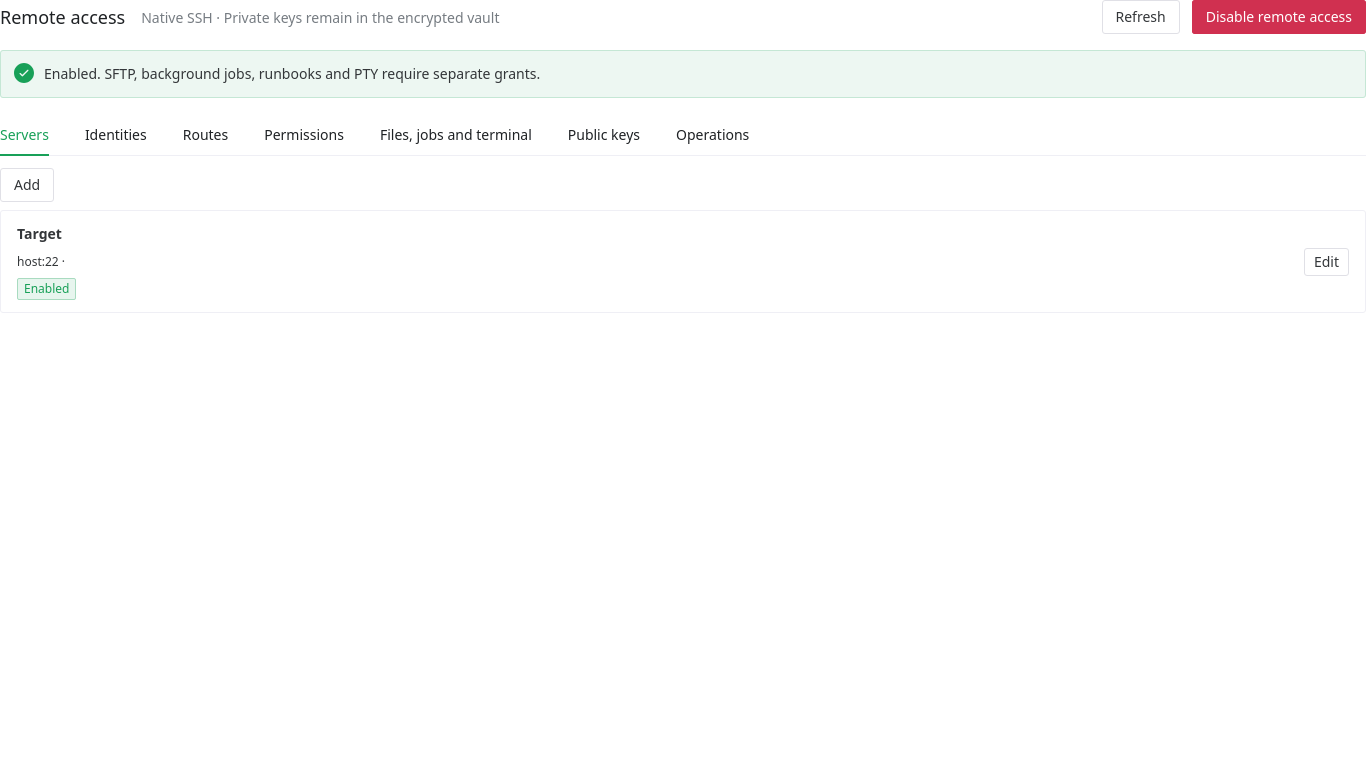
Scenario: Remote SSH dashboard › defaults new permissions to temporary without inferring permanence from a missing expiry
Click the element with class "n-tabs-tab" showing "Permissions" at (304, 135), box [264,125,344,144]
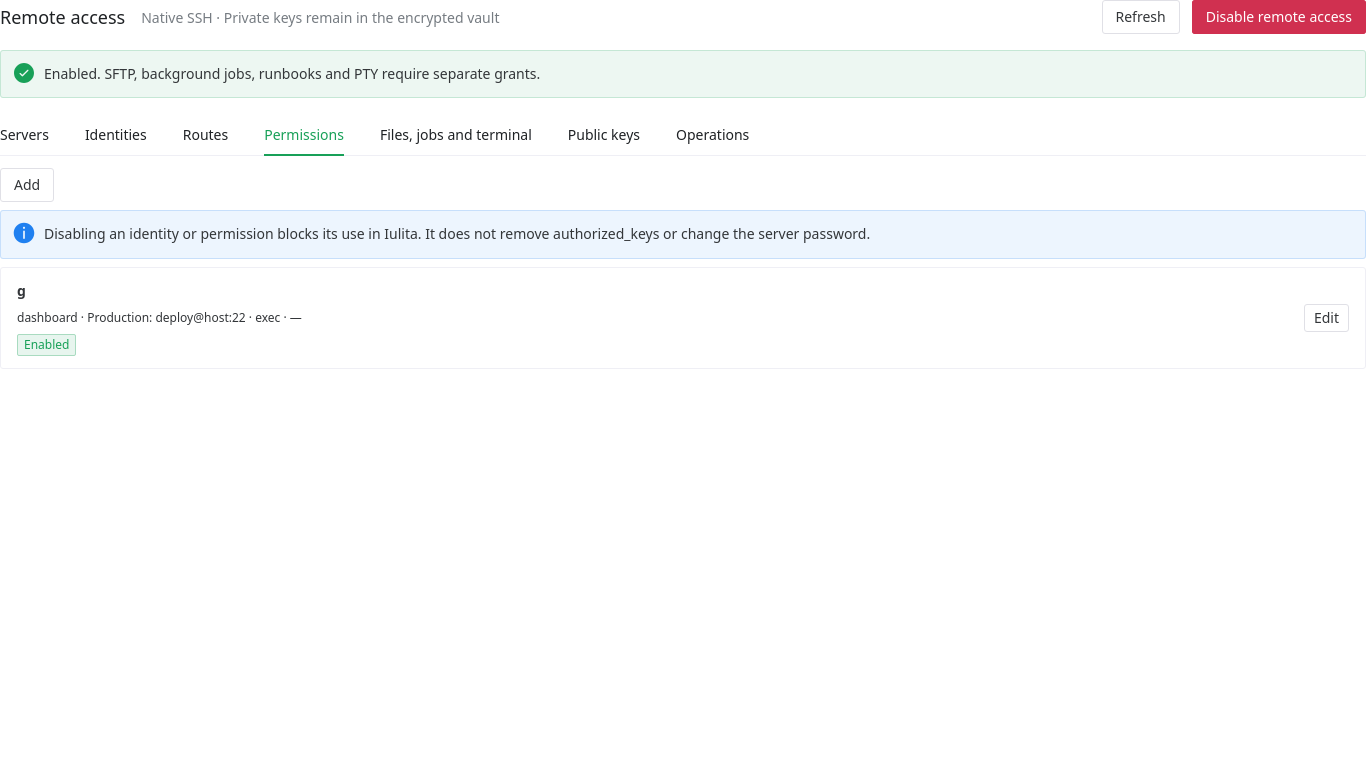
Click the button "Edit" at (1326, 318), box [1304,304,1349,332]
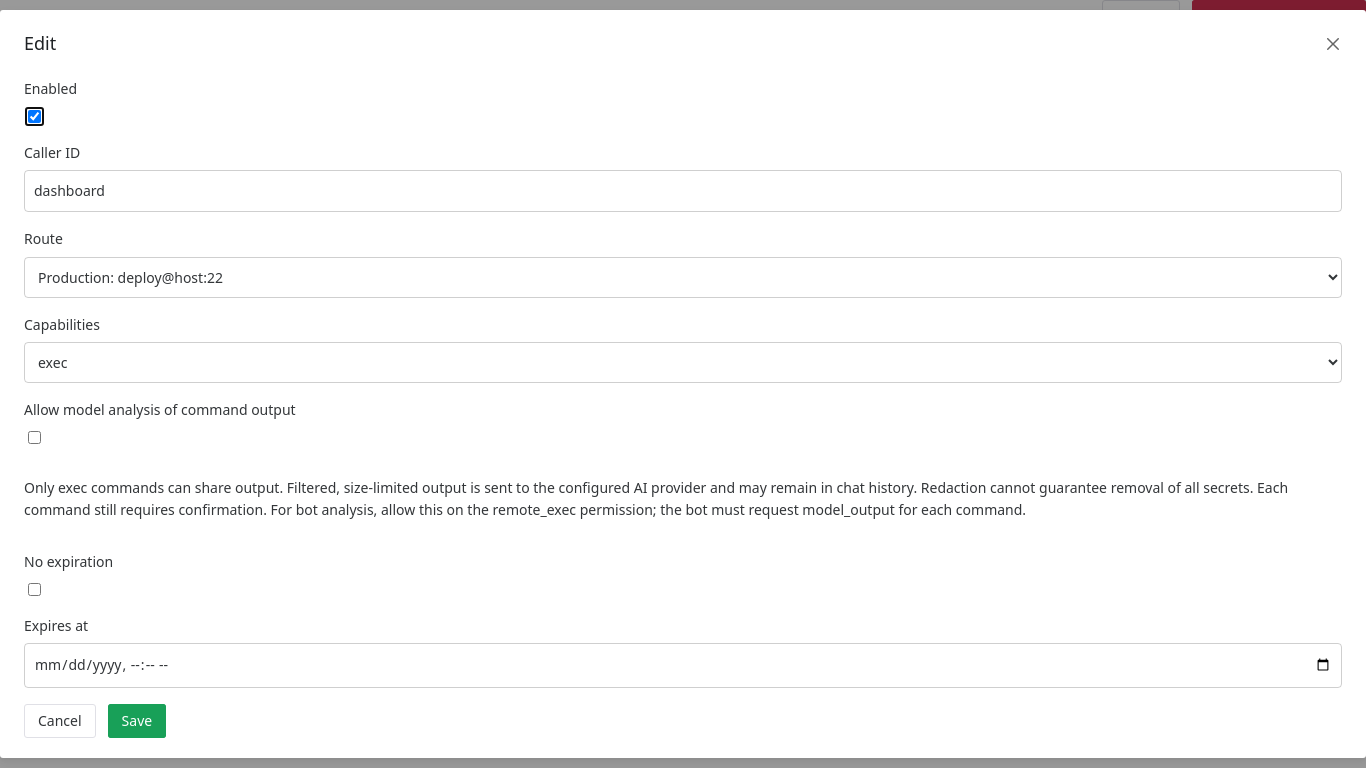
Expected: the checkbox with test id "grant-permanent" is not checked, [28,583,41,596]
Expected: the field labelled "Expires at" is empty, [24,643,1342,688]
Click the button "Cancel" at (60, 720), box [24,704,96,738]
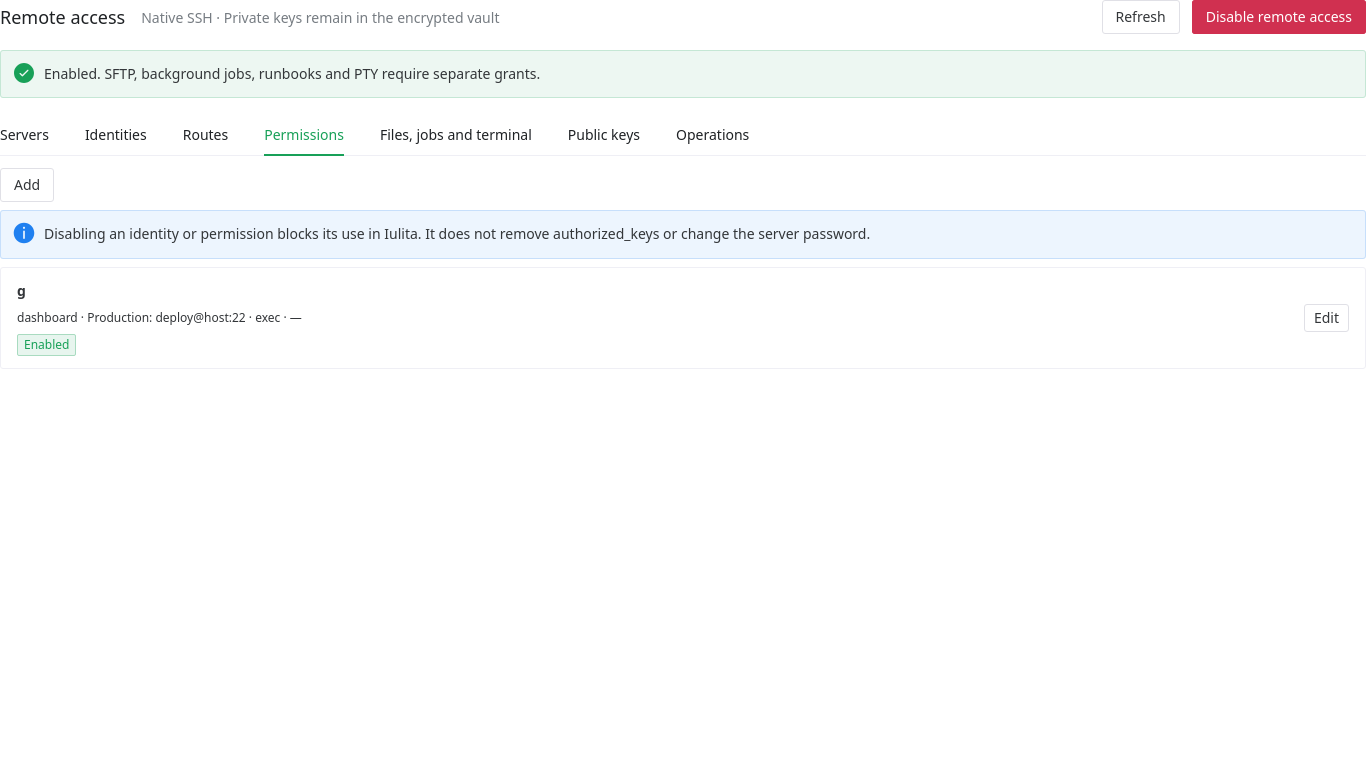
Click the button "Add" at (27, 185), box [0,168,54,202]
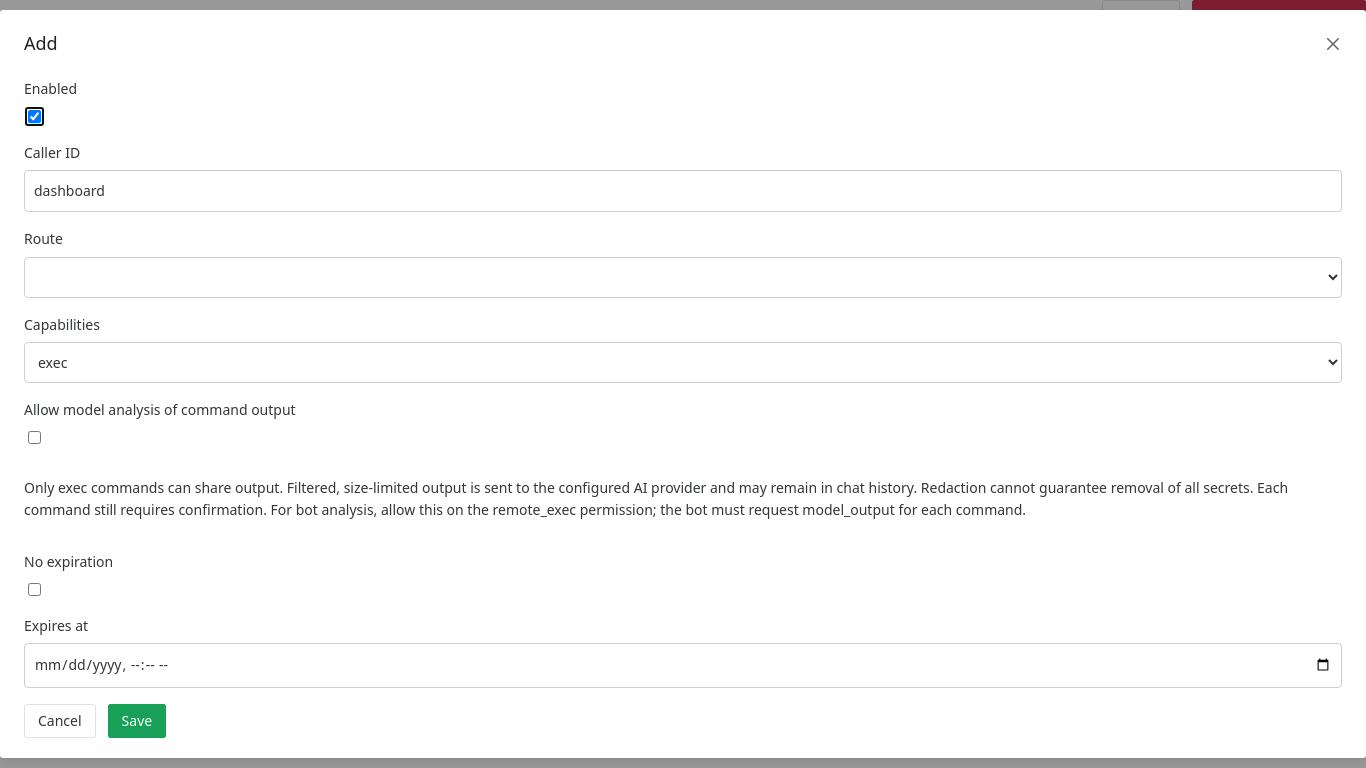
Expected: the checkbox with test id "grant-permanent" is not checked, [28,583,41,596]
